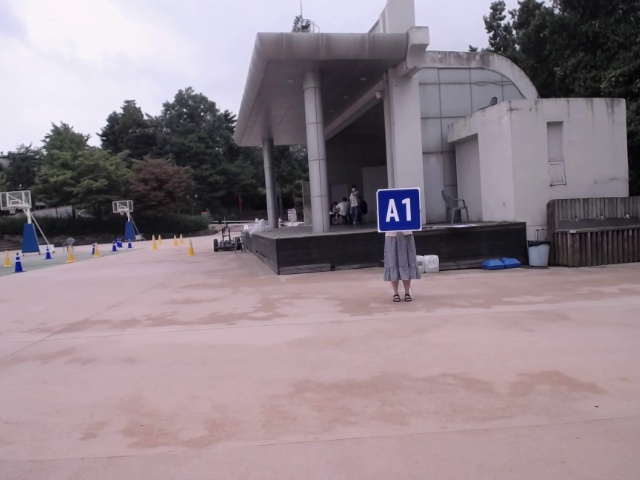delivery_a1: (377, 188, 421, 231)
